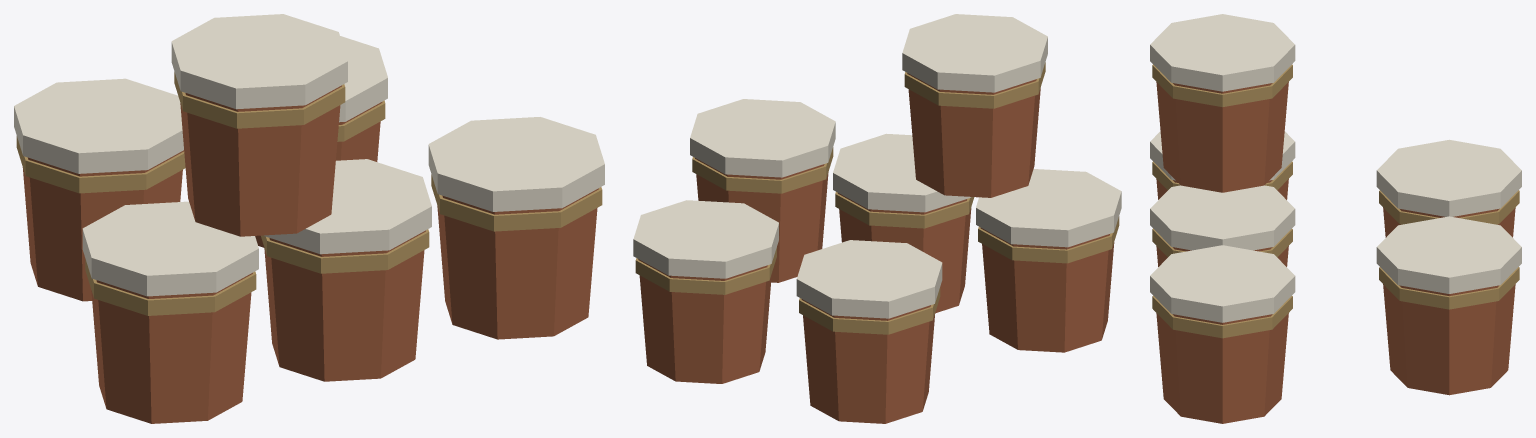
File: pile_honey_2.glb
The picture shows the model from 3 angles, left to right: view 1: azimuth 30°, elevation 25°; view 2: azimuth 150°, elevation 25°; view 3: azimuth 270°, elevation 25°; orthographic projection. The views are drawn at different scales.
Parts seen in each view (by area): view 1: pile_honey_2; view 2: pile_honey_2; view 3: pile_honey_2.
Part boxes in pixels (x1,y1,x2,y2): pile_honey_2: (14, 14, 604, 423); pile_honey_2: (633, 14, 1121, 423); pile_honey_2: (1150, 14, 1521, 423).
Bounding box in the file's own units: 1.02 × 0.62 × 0.82.
